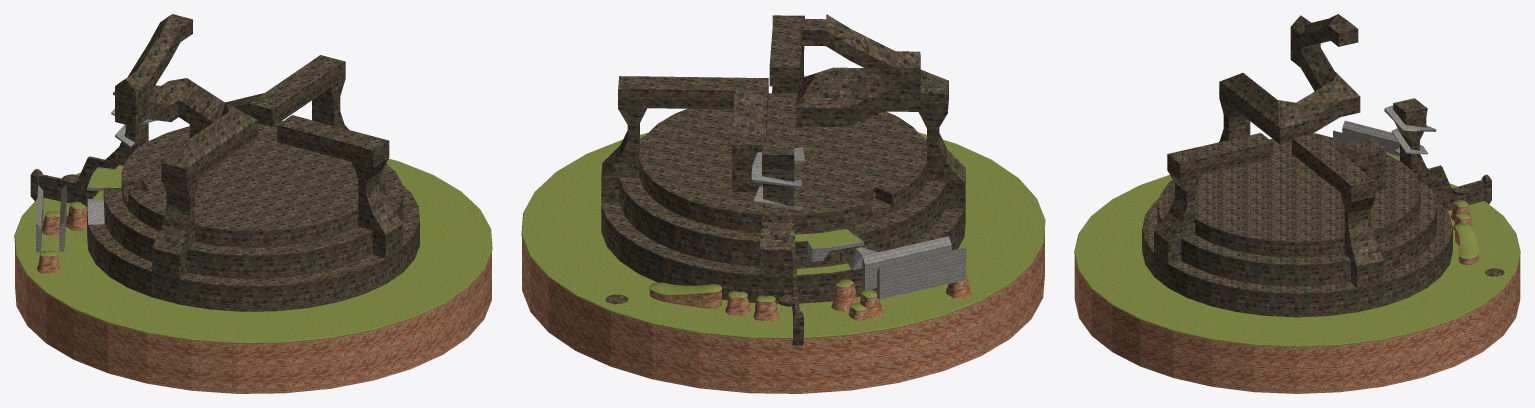
File: burg.fbx
3 renders of one model, left to right at view 1: azimuth 30°, elevation 25°; view 2: azimuth 150°, elevation 25°; view 3: azimuth 270°, elevation 25°, orthographic. The views are drawn at different scales.
Parts seen in each view (by area): view 1: Circle, Circle.005, Circle.008, Cube.001, Cube; view 2: Circle, Cube.001, Cube, Plane, Circle.005, Circle.002, Circle.001, Circle.007; view 3: Circle, Plane, Cube.001.
Boxes of the visible parts, left/top/right/bottom form: Circle: left=14, top=14, right=492, bottom=393; Circle.005: left=66, top=201, right=86, bottom=231; Circle.008: left=37, top=250, right=59, bottom=273; Cube.001: left=36, top=185, right=43, bottom=252; Cube: left=59, top=184, right=66, bottom=251; Circle: left=521, top=14, right=1045, bottom=393; Cube.001: left=877, top=247, right=966, bottom=299; Cube: left=862, top=236, right=951, bottom=290; Plane: left=649, top=282, right=722, bottom=308; Circle.005: left=831, top=279, right=857, bottom=311; Circle.002: left=753, top=295, right=778, bottom=321; Circle.001: left=725, top=291, right=750, bottom=315; Circle.007: left=859, top=290, right=882, bottom=317; Circle: left=1074, top=14, right=1520, bottom=393; Plane: left=1455, top=223, right=1479, bottom=264; Cube.001: left=1342, top=120, right=1399, bottom=147.
Size of the model in its own units: 3625 by 2311 by 3625.
